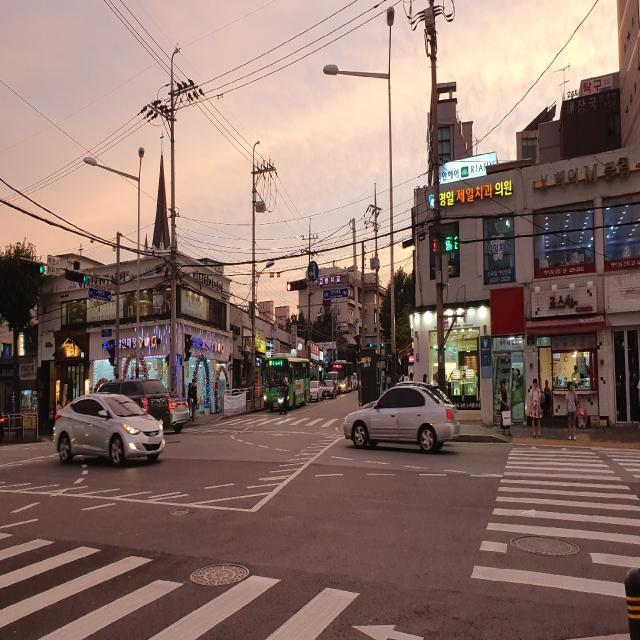횡단보도: (470, 446, 640, 599)
